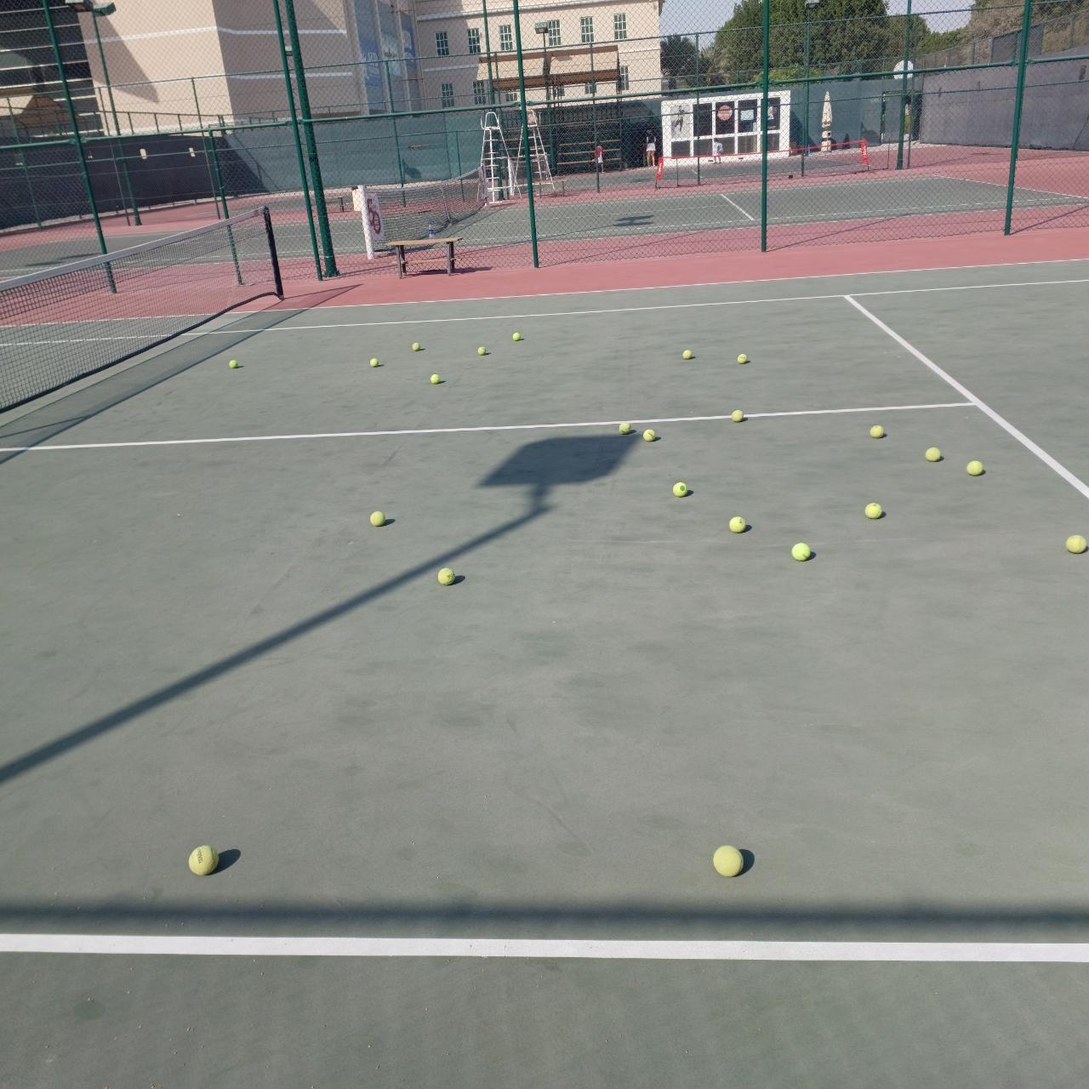tennis-ball: (711, 842, 743, 877), (186, 842, 217, 875), (1065, 533, 1087, 555), (790, 540, 812, 561), (863, 500, 882, 519), (727, 514, 746, 533), (965, 458, 984, 476), (436, 565, 454, 584), (368, 509, 385, 526), (924, 445, 942, 461), (671, 480, 687, 497), (869, 425, 884, 439), (731, 409, 744, 423), (643, 429, 656, 442), (618, 422, 631, 434), (737, 353, 748, 364), (430, 374, 440, 384), (370, 358, 379, 367), (412, 343, 421, 352), (478, 347, 487, 356), (229, 360, 238, 369), (683, 350, 691, 360), (512, 333, 520, 341)
